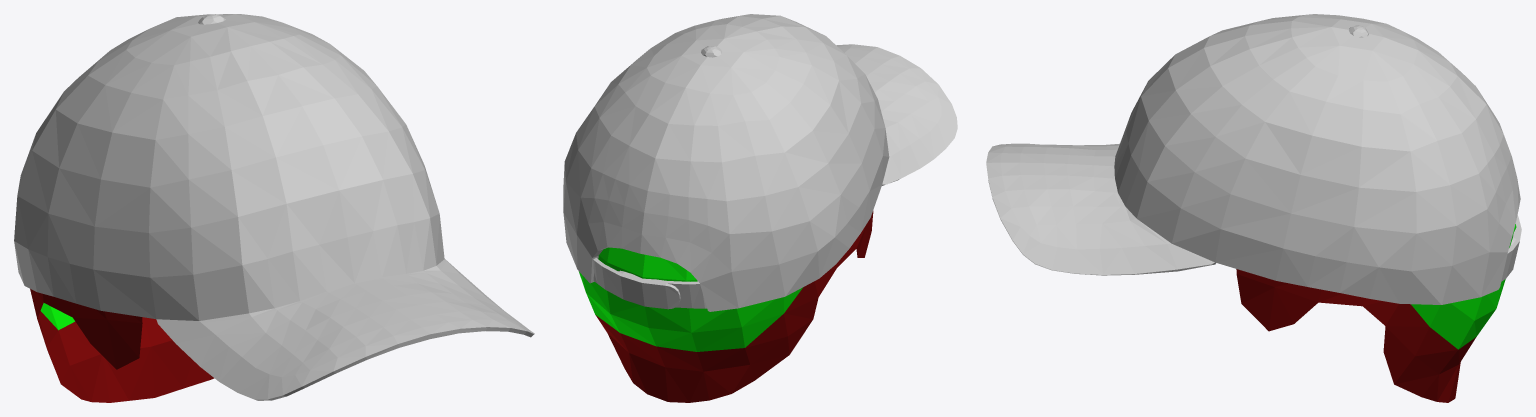
File: BaseballHat_Hair_03.obj
3 renders of one model, left to right at view 1: azimuth 30°, elevation 25°; view 2: azimuth 150°, elevation 25°; view 3: azimuth 270°, elevation 25°, orthographic. The views are drawn at different scales.
Size of the model in its own units: 16.66 by 19.75 by 26.45.
